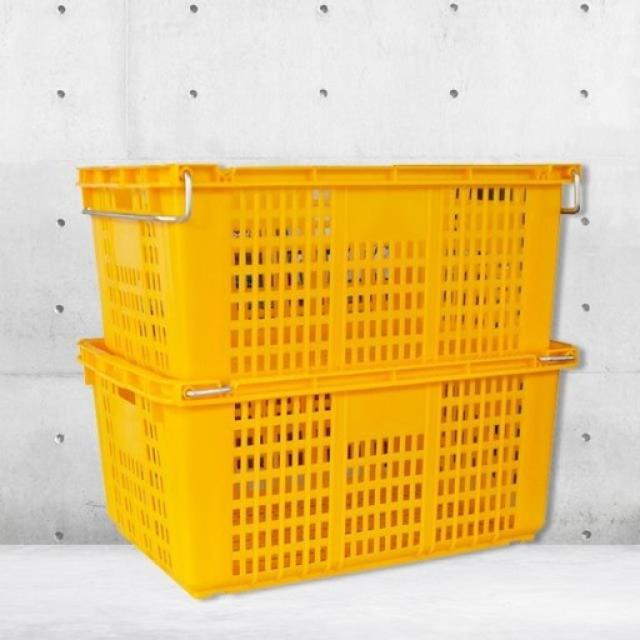basket: (79, 340, 579, 600), (78, 165, 582, 382)
